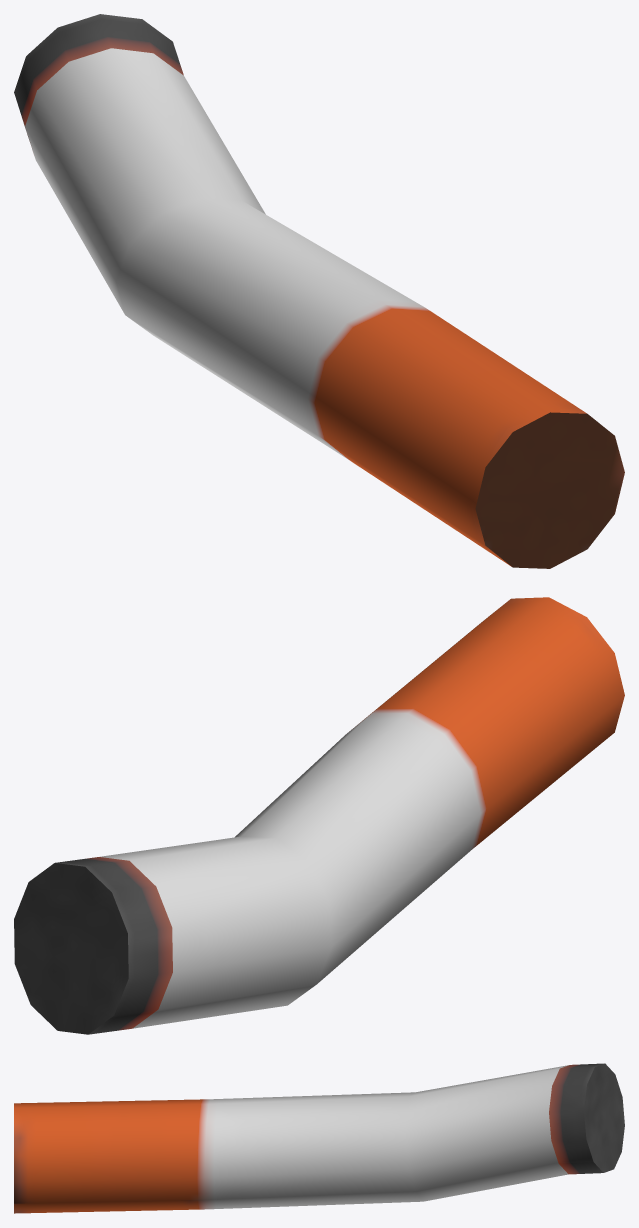
Rendered from Cigarette_5.fbx.
3 renders of one model, top to bottom at view 1: azimuth 30°, elevation 25°; view 2: azimuth 150°, elevation 25°; view 3: azimuth 270°, elevation 25°, orthographic. The views are drawn at different scales.
Visible parts, largest first — view 1: Cigarette_5; view 2: Cigarette_5; view 3: Cigarette_5.
Boxes of the visible parts, x1,y1,x2,y2 form: Cigarette_5: (14,14,624,568); Cigarette_5: (14,597,624,1034); Cigarette_5: (14,1063,624,1213).
Size of the model in its own units: 0.0103 by 0.0115 by 0.0447.
